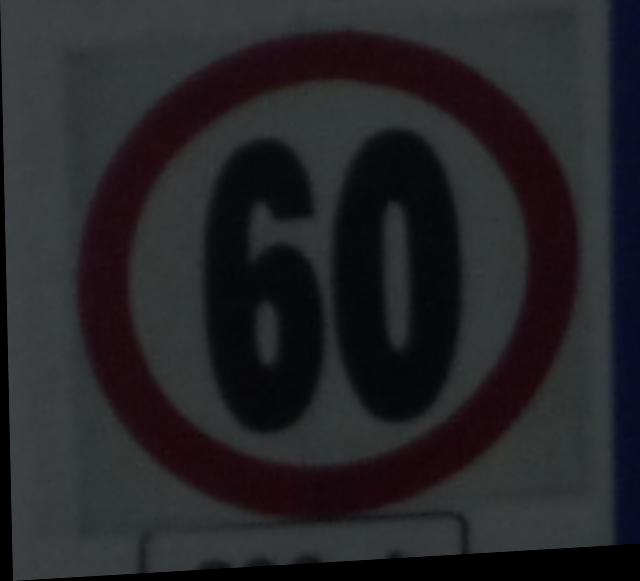limit60: (44, 8, 590, 537)
